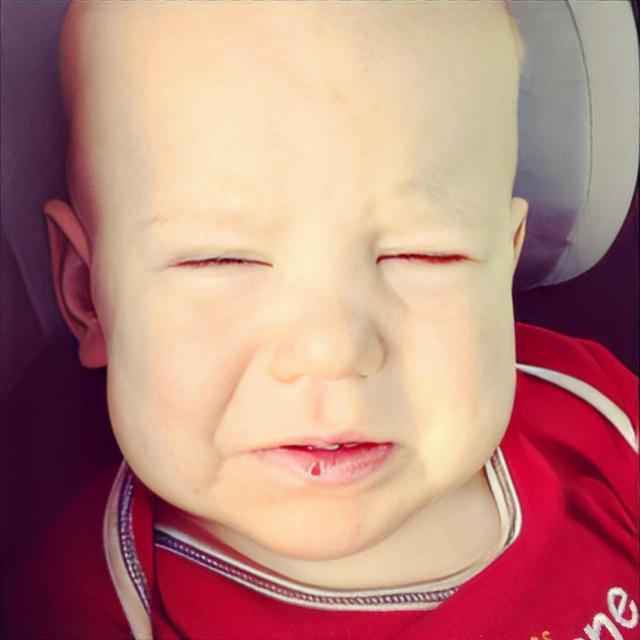disgust: (107, 0, 520, 560)
